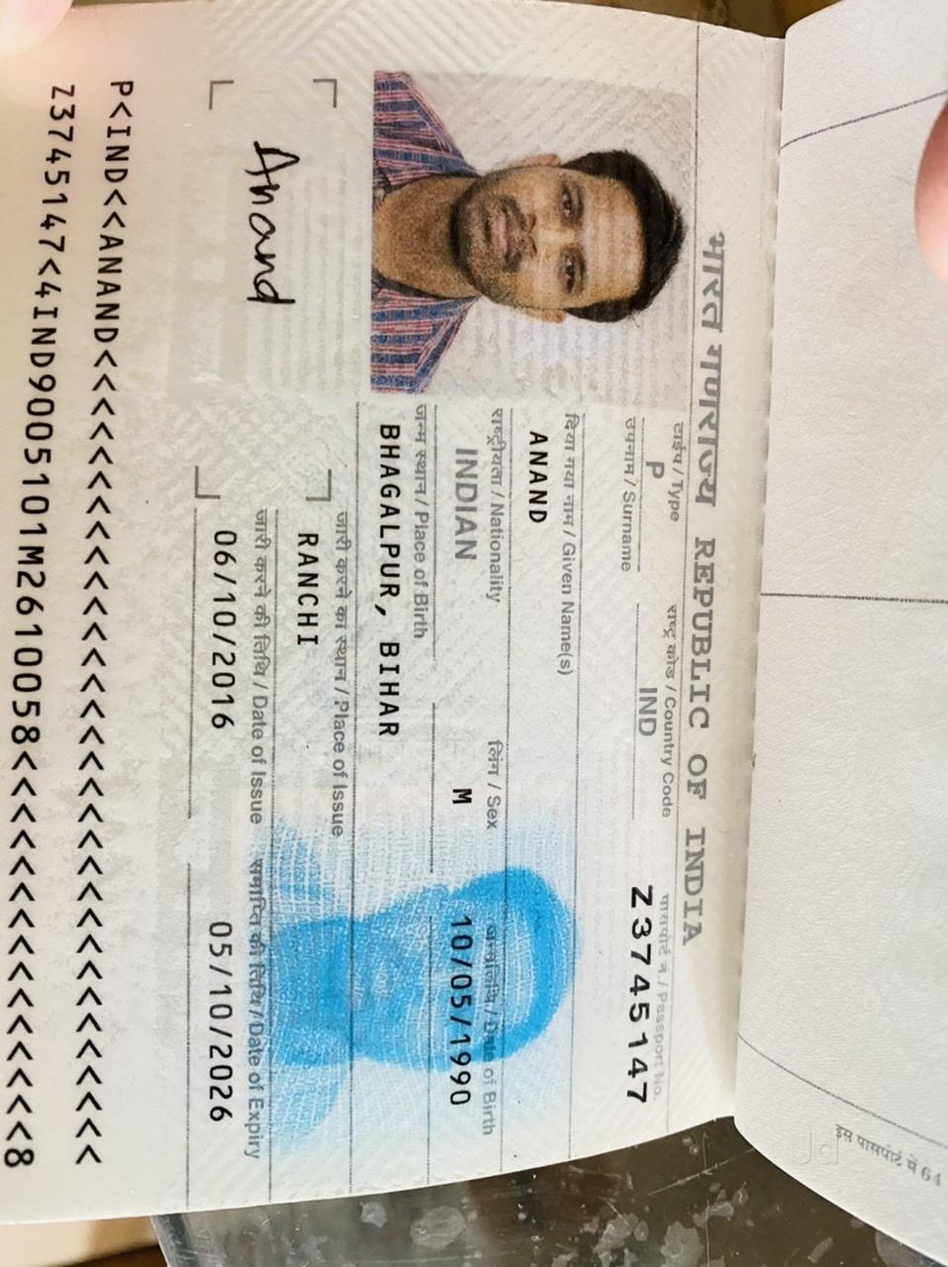DOB: (430, 893, 486, 1117)
country_code: (623, 668, 665, 762)
date_of_expiry: (186, 886, 252, 1152)
date_of_issue: (195, 515, 250, 754)
details: (2, 37, 141, 1197)
name: (521, 422, 560, 552)
nationality: (433, 431, 489, 595)
passport_no: (612, 865, 661, 1132)
photo: (374, 67, 691, 392)
place_of_birth: (368, 410, 414, 772)
place_of_issue: (277, 520, 334, 670)
sex: (435, 760, 486, 833)
sign: (237, 104, 308, 349)
type: (628, 436, 681, 516)
